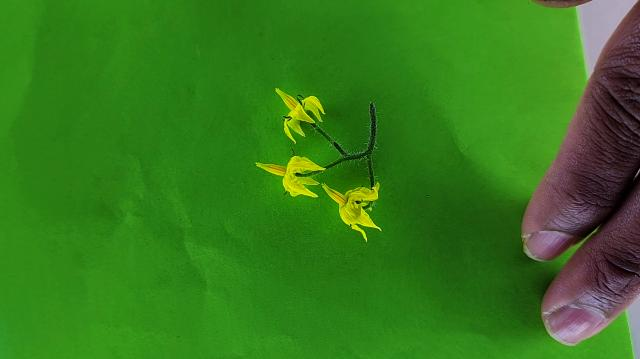Anthesis: (320, 179, 383, 243), (252, 149, 329, 201), (274, 86, 326, 144)
